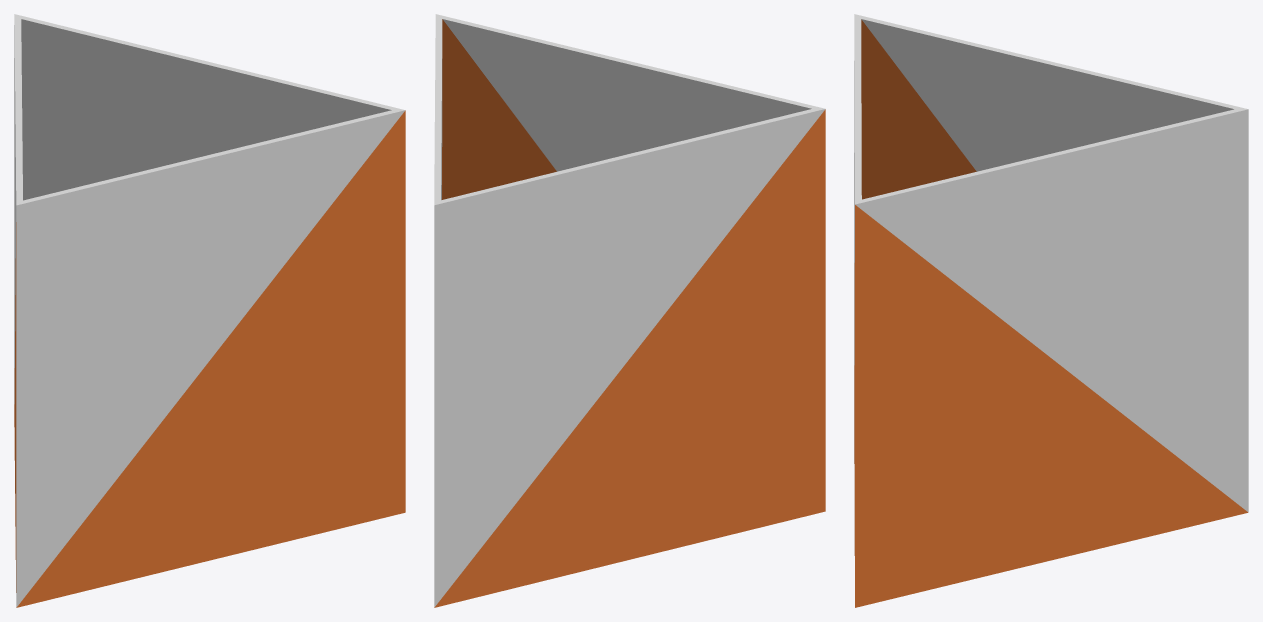
The model's file is point.fbx.
3 renders of one model, left to right at view 1: azimuth 30°, elevation 25°; view 2: azimuth 150°, elevation 25°; view 3: azimuth 270°, elevation 25°, orthographic.
Visible parts, largest first — view 1: Point; view 2: Point; view 3: Point.
Part boxes in pixels (box(x1,y1,x2,y2)): Point: box(14, 14, 405, 607); Point: box(434, 14, 825, 607); Point: box(854, 14, 1248, 607).
Bounding box in the file's own units: 172 × 170 × 151.
